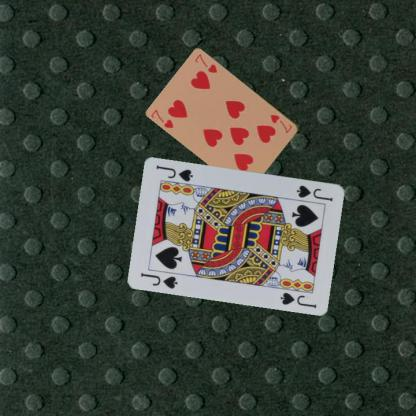7h: (149, 106, 175, 130), (268, 112, 294, 135)
Js: (294, 182, 334, 203), (138, 270, 180, 290)
